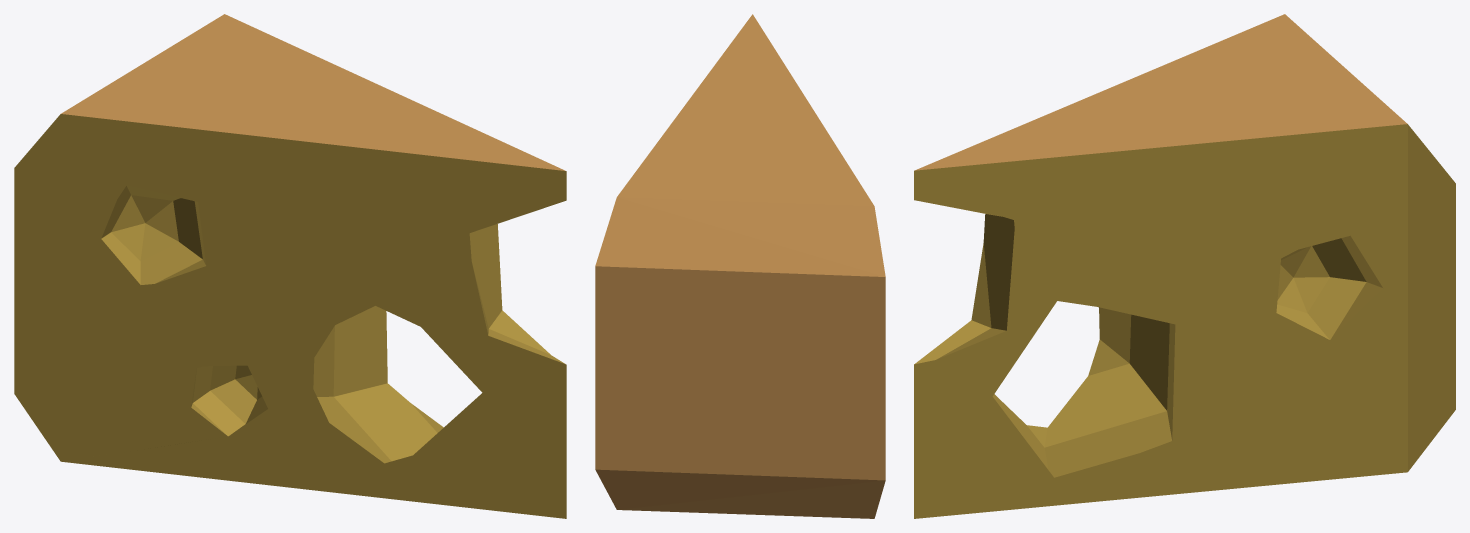
Rendered from SM_Prop_Cheese_02.gltf.
3 views of the same model, side by side, from view 1: azimuth 30°, elevation 25°; view 2: azimuth 150°, elevation 25°; view 3: azimuth 270°, elevation 25° (orthographic). The views are drawn at different scales.
Parts seen in each view (by area): view 1: SM_Prop_Cheese_02; view 2: SM_Prop_Cheese_02; view 3: SM_Prop_Cheese_02.
Part boxes in pixels (x1,y1,x2,y2): SM_Prop_Cheese_02: [14, 14, 566, 518]; SM_Prop_Cheese_02: [595, 14, 885, 518]; SM_Prop_Cheese_02: [914, 14, 1455, 518].
Bounding box in the file's own units: 0.2218 × 0.2106 × 0.2969.
Materials: 1 (1 with a texture image).
